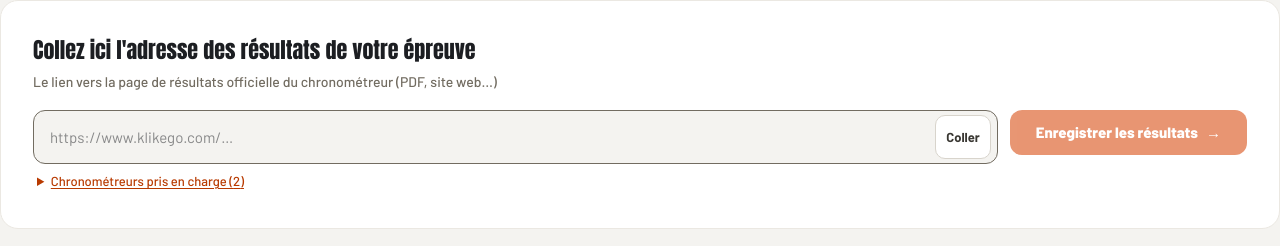
Test case: TcnScrapeForm — portée de l'import (#698) › n'affiche pas le contrôle pour un provider sans fanout
In the field named "Adresse des résultats": (488, 137) 50,126 -> 925,148, type "https://timepulse.fr/x"
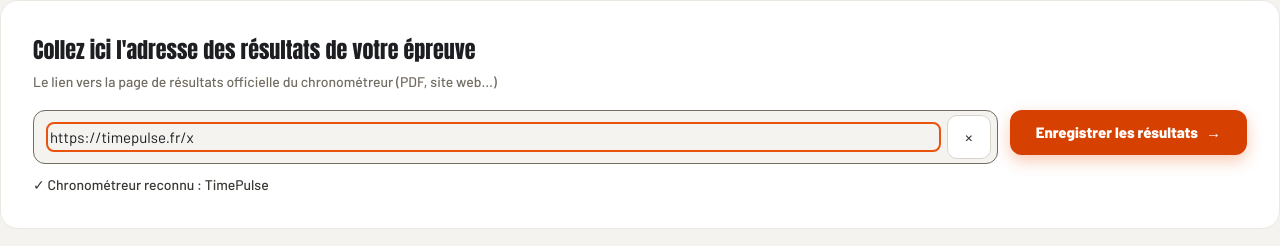
Expected: the text "✓ Chronométreur reconnu : TimePulse" is shown, 33,174 -> 269,194
